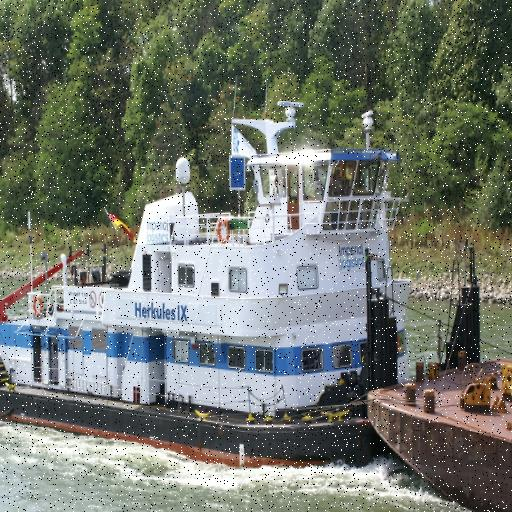tugboat: (1, 97, 417, 496)
